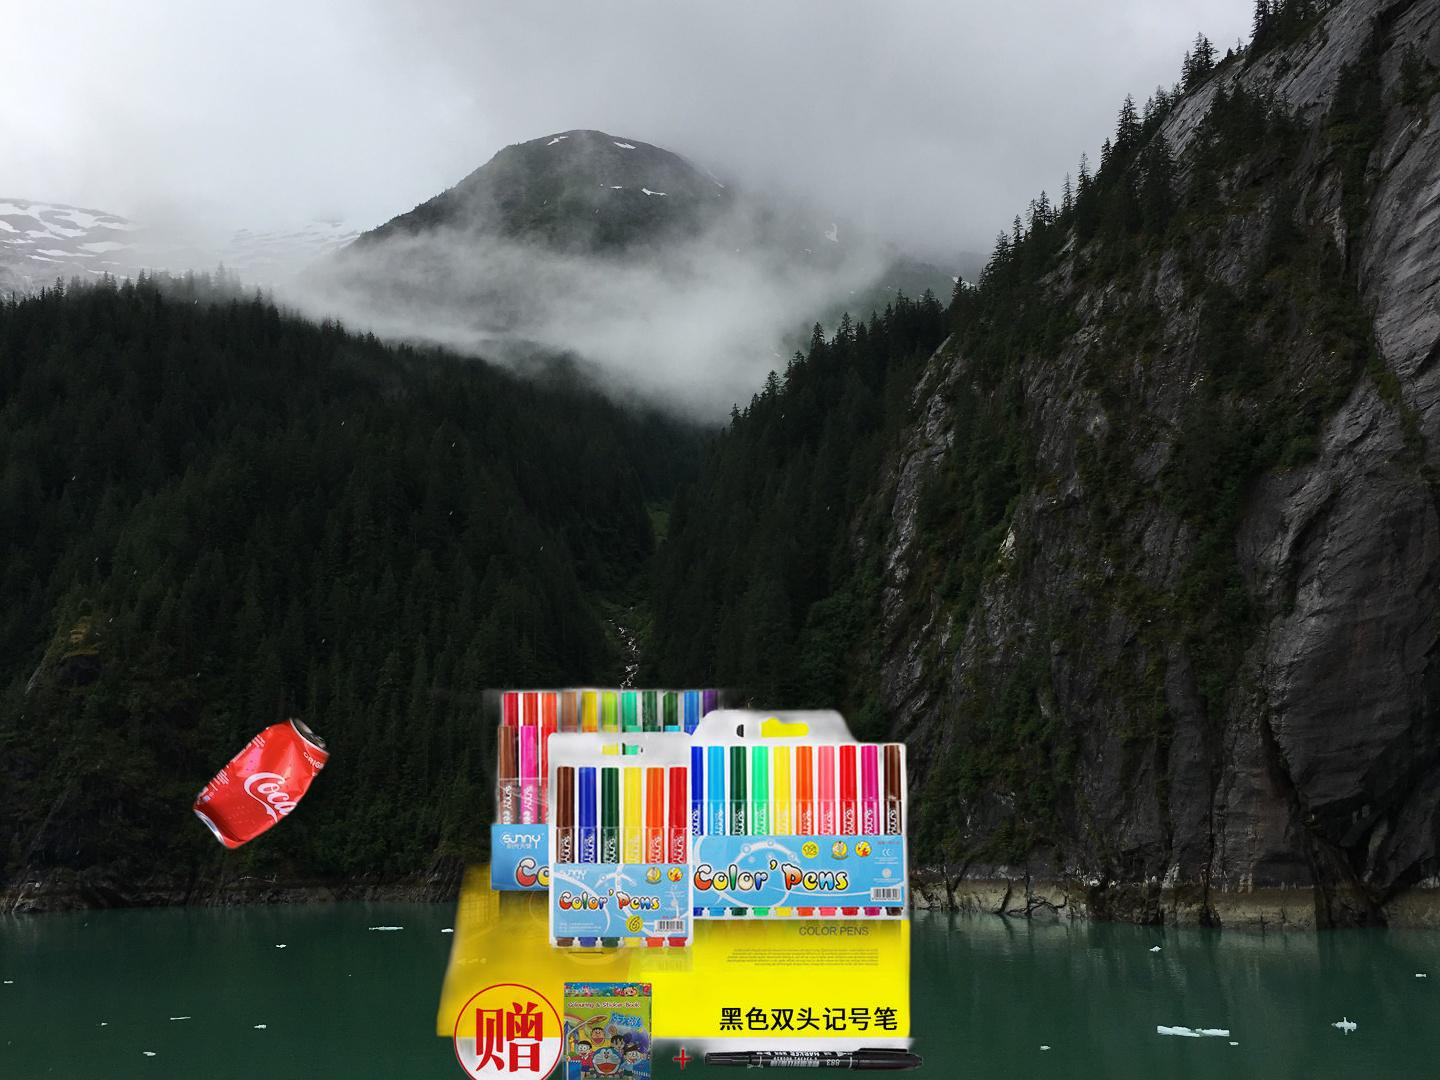metal-cans: (188, 711, 334, 855)
penholder: (426, 633, 926, 1080)
shoes: (525, 824, 677, 969)
